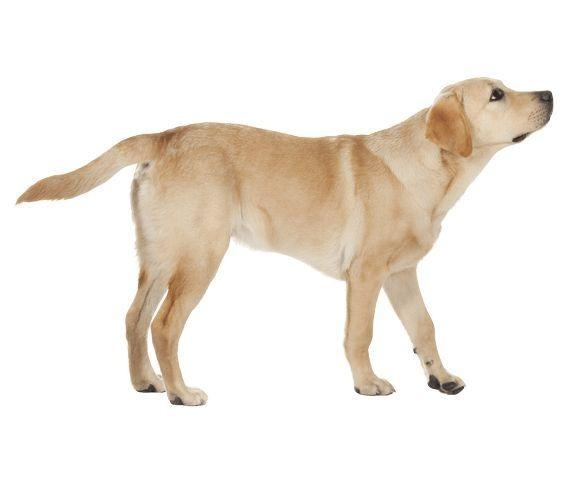adult_dog: (15, 76, 554, 407)
